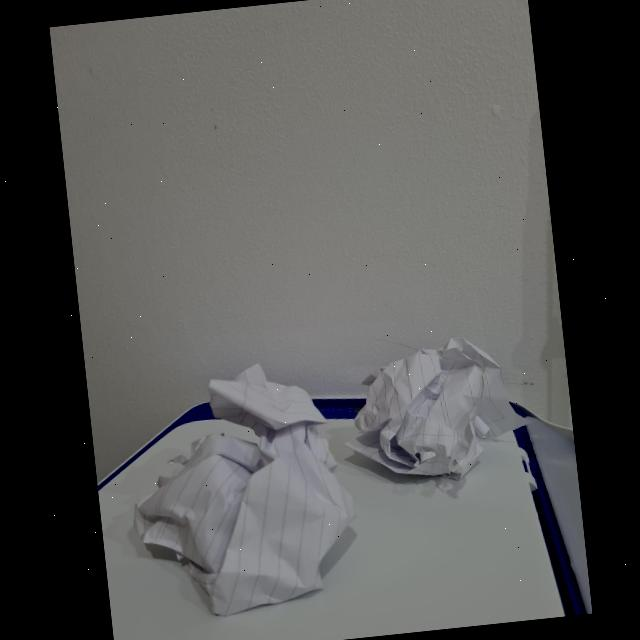trash: (137, 348, 360, 614), (355, 334, 521, 488)
